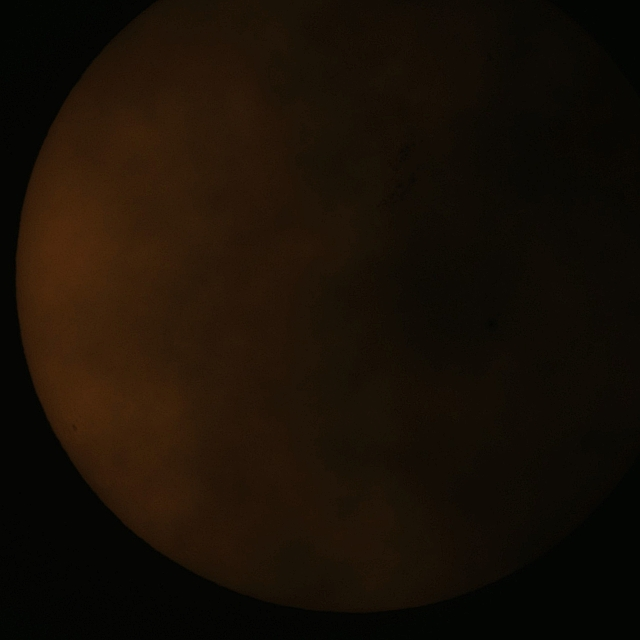sunspot: (71, 412, 82, 435)
